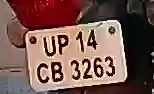1: (73, 32, 87, 56)
2: (80, 58, 93, 82)
3: (68, 60, 82, 83), (105, 55, 116, 81)
4: (86, 28, 101, 52)
6: (93, 57, 105, 80)
B: (49, 59, 65, 83)
C: (37, 62, 49, 89)
P: (56, 34, 70, 58)
U: (42, 35, 58, 59)
